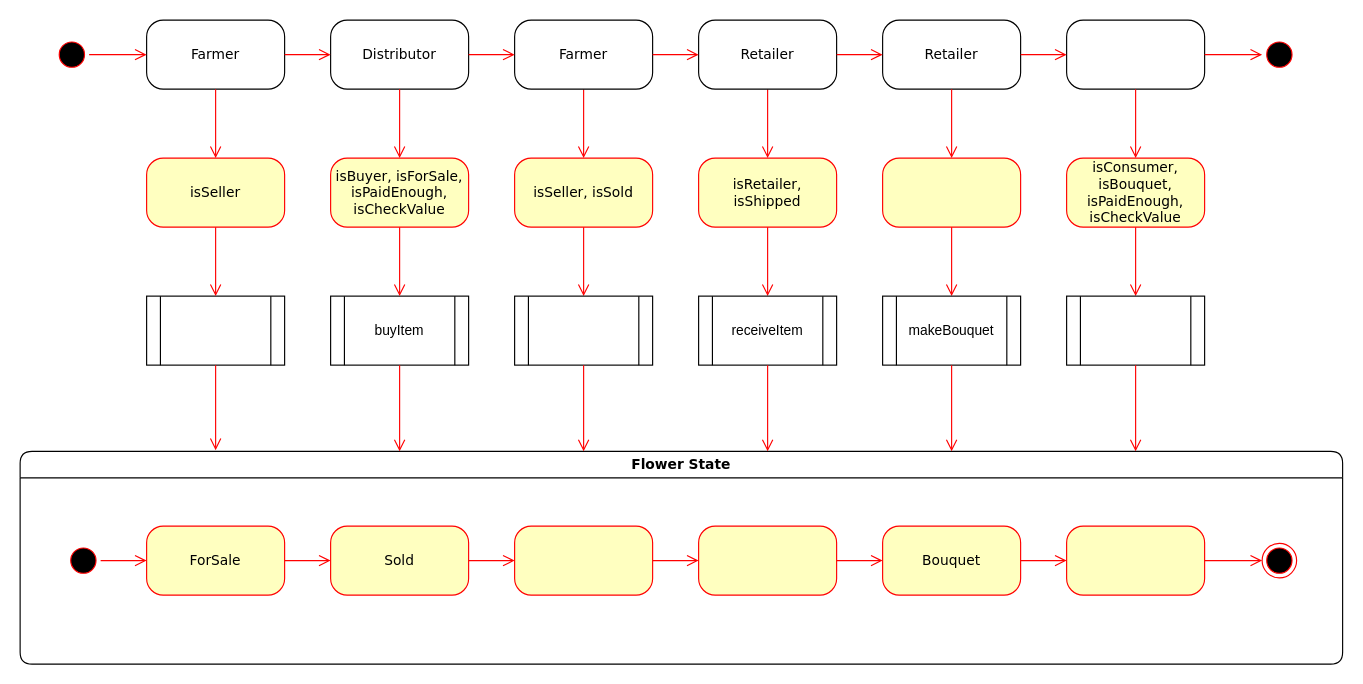
Some shapes in this 1363 by 684 pixel diagram are drawn without their labels. Each missing label, with the centre of its shape:
Consumer: the point at 1135,54
cultivateItem: the point at 215,330
isRetailer, isReceived: the point at 951,192
Purchased: the point at 1135,560
purchaseItem: the point at 1135,330
Received: the point at 767,560
shipItem: the point at 583,330
Shipped: the point at 583,560
